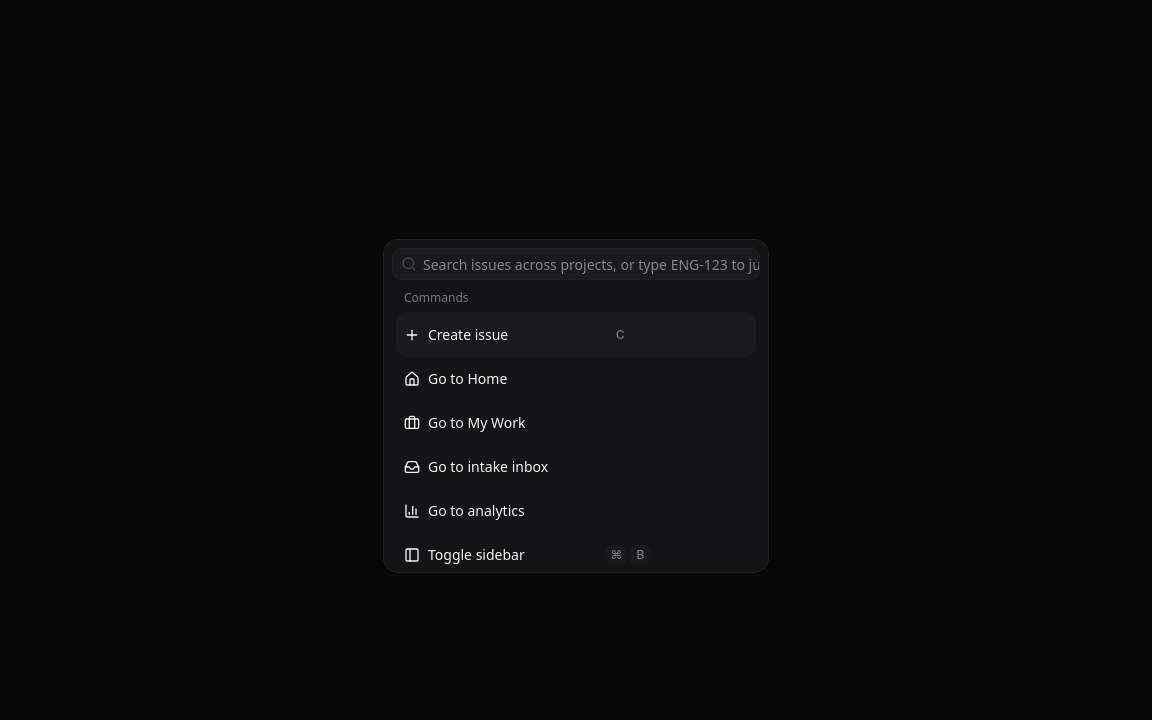
Test: global command palette › groups search results by project, current project first
Type "crash" into the dropdown with placeholder "Search issues across projects, or type ENG-123 to jump…".
click(588, 264); type("crash")  # box [417,240,759,288]
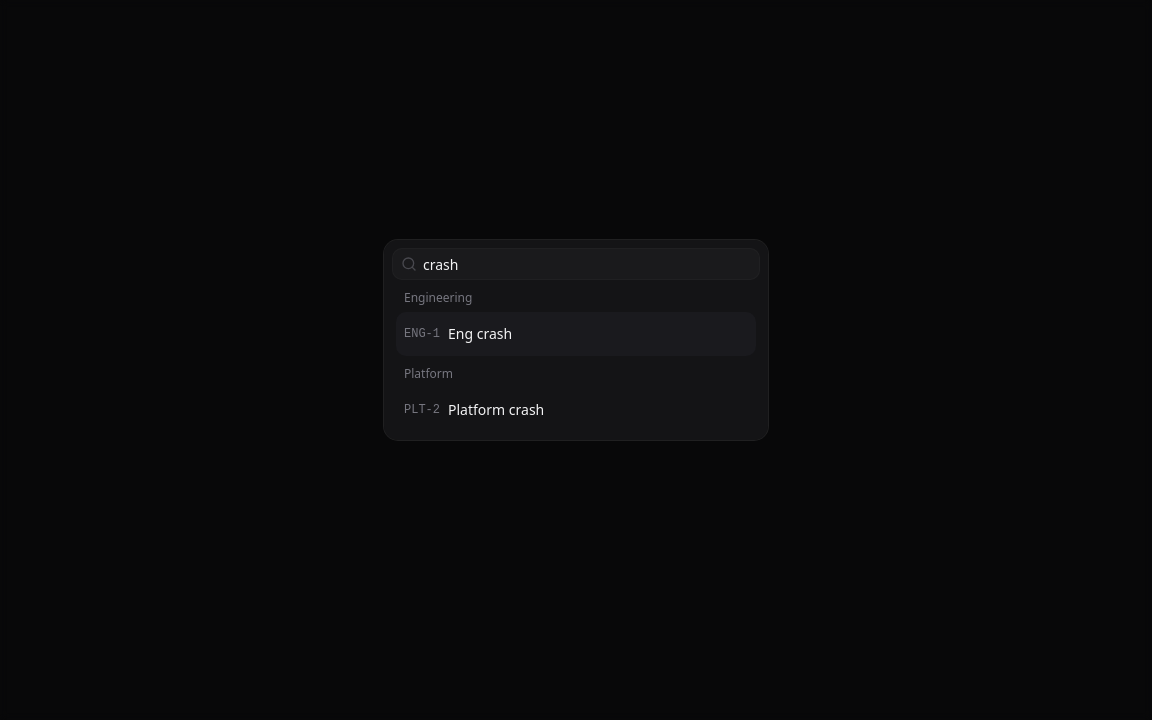
Now the text "Engineering" is shown, box [404,289,472,306]
Now the text "Platform" is shown, box [404,365,453,382]
Now the text "Eng crash" is shown, box [448,324,512,344]
